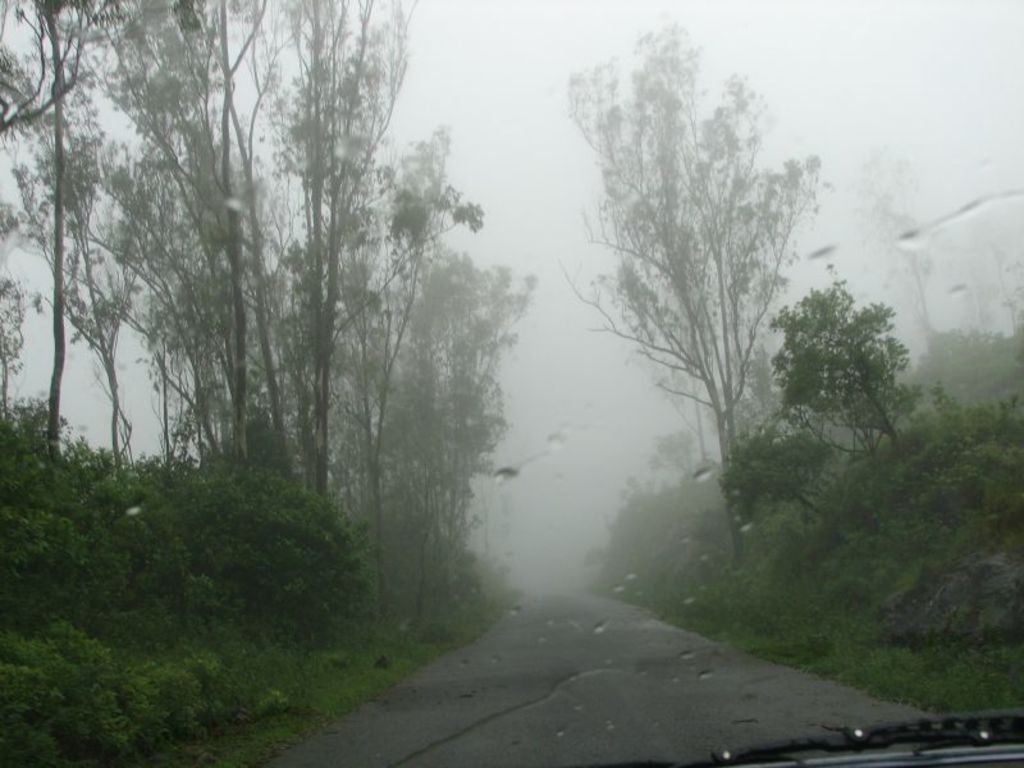Tree: (0, 0, 1024, 638)
